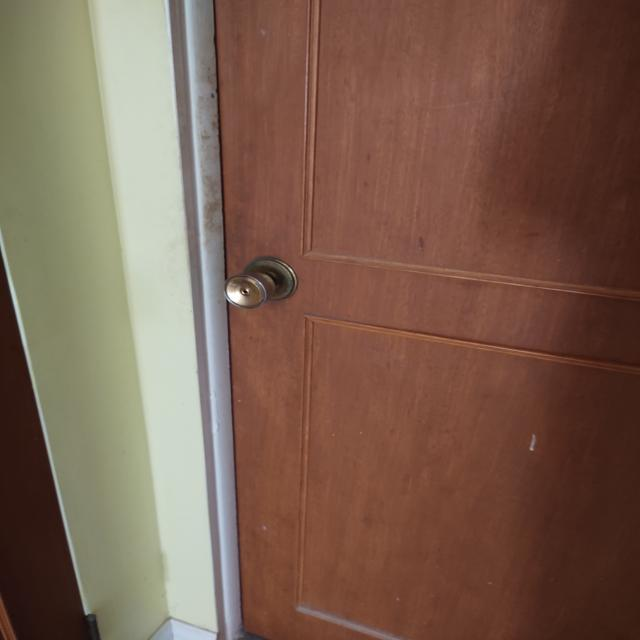door-knob: (224, 258, 297, 309)
